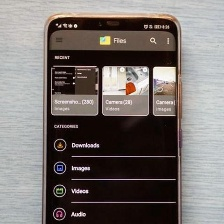phone: (40, 7, 185, 224)
